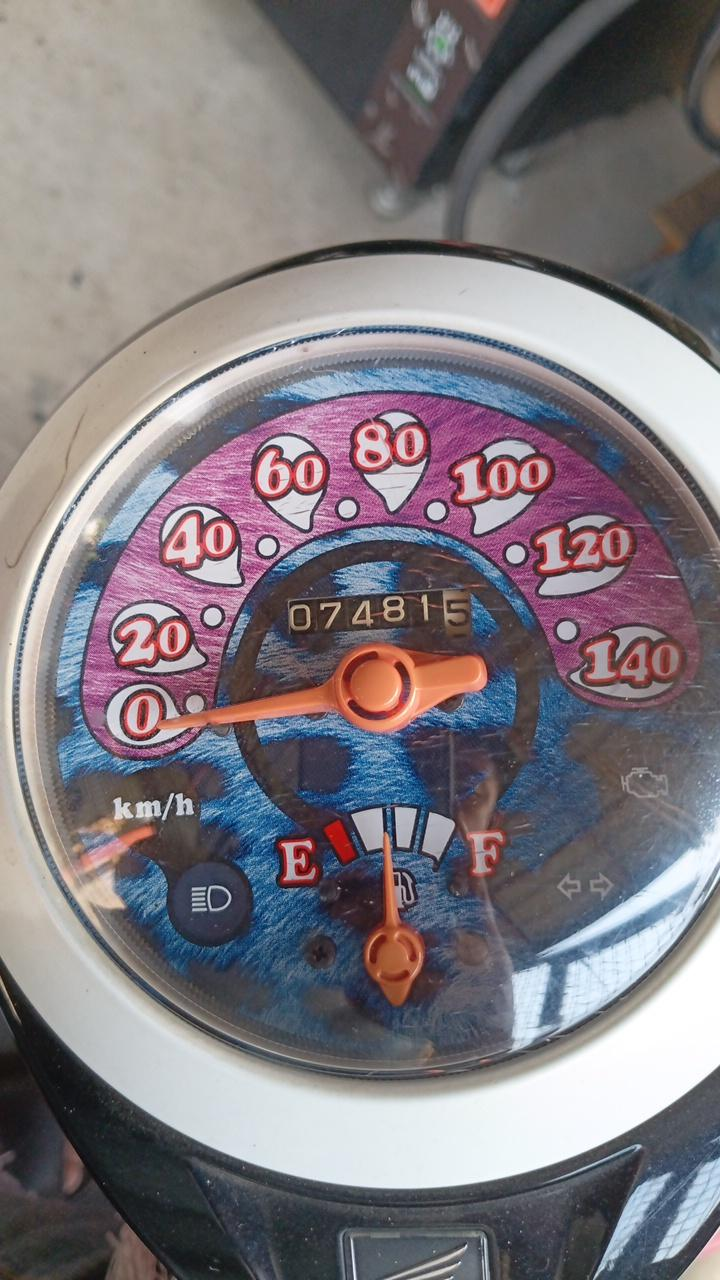0: (288, 603, 311, 632)
1: (420, 593, 430, 622)
4: (350, 599, 374, 627)
5: (446, 597, 470, 628)
7: (318, 601, 342, 630)
8: (382, 595, 405, 623)
odometer: (286, 587, 474, 642)
